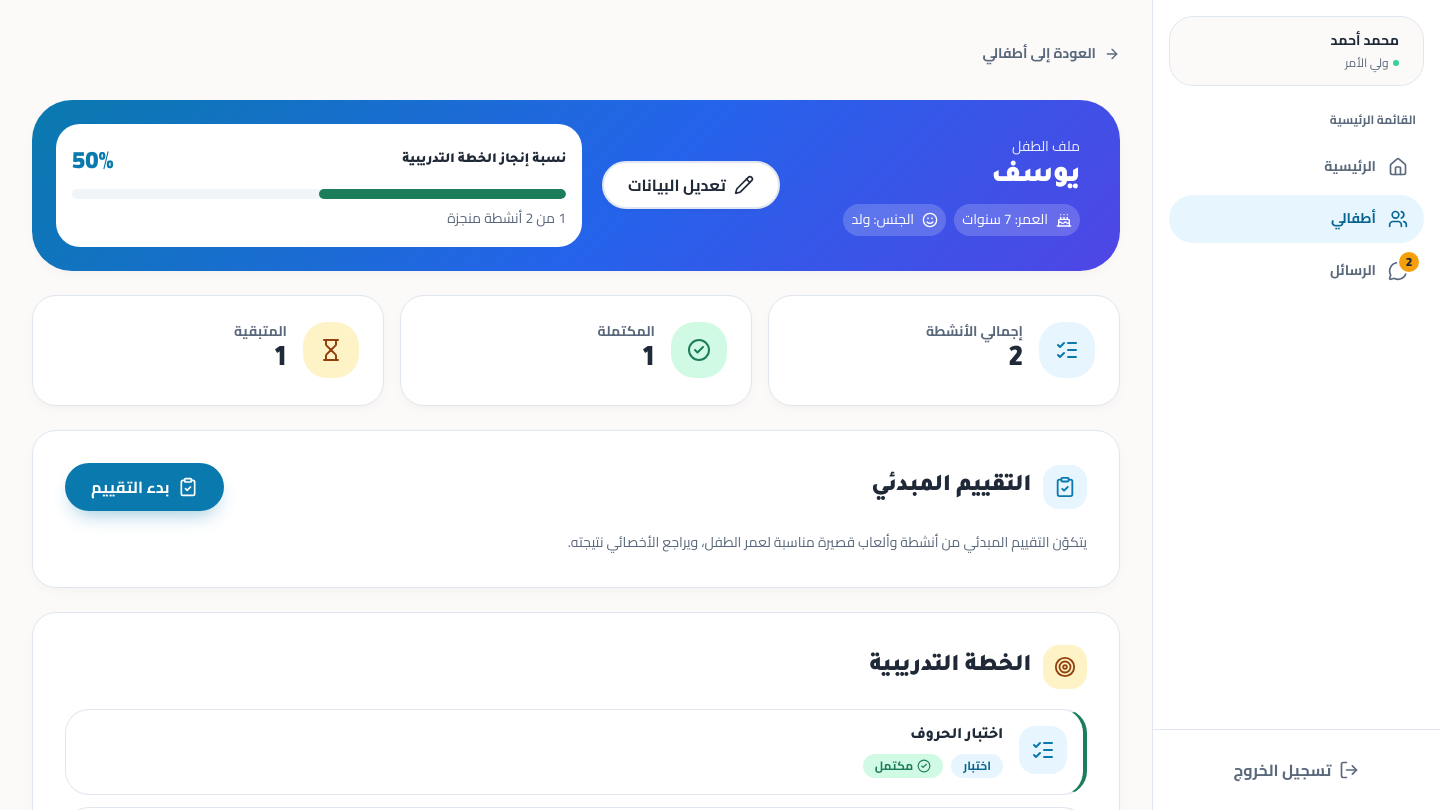
Scenario: ChildProfilePage — parent dashboard (client revision 2026-10) › edits the child through PATCH and shows the new data
Click the button "تعديل البيانات".
click(691, 185)  # box [602, 161, 780, 209]
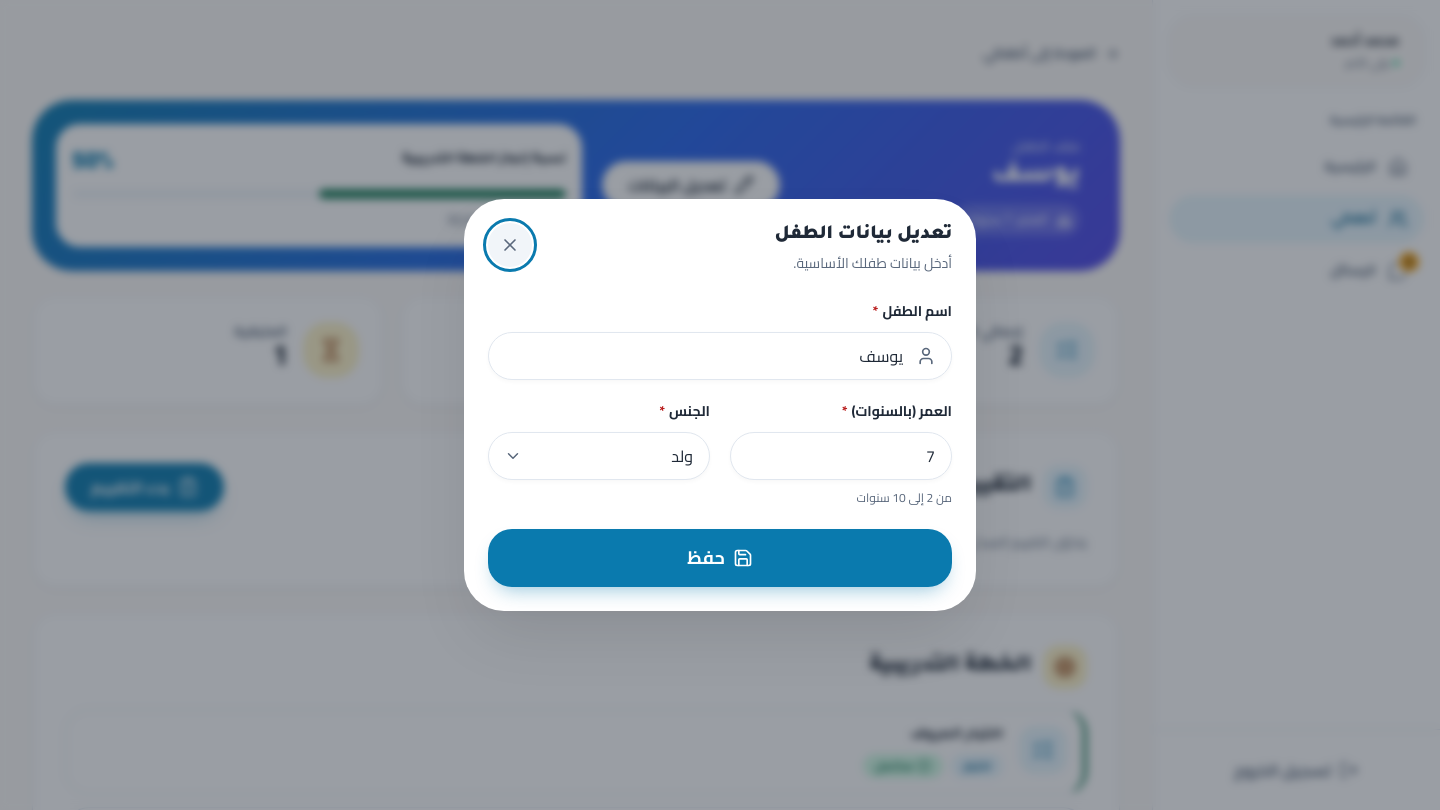
Now the number field labelled "العمر (بالسنوات)*" holds "7"
Replace the text in the number field labelled "العمر (بالسنوات)*" with "8" at (841, 456), box [730, 432, 952, 480]
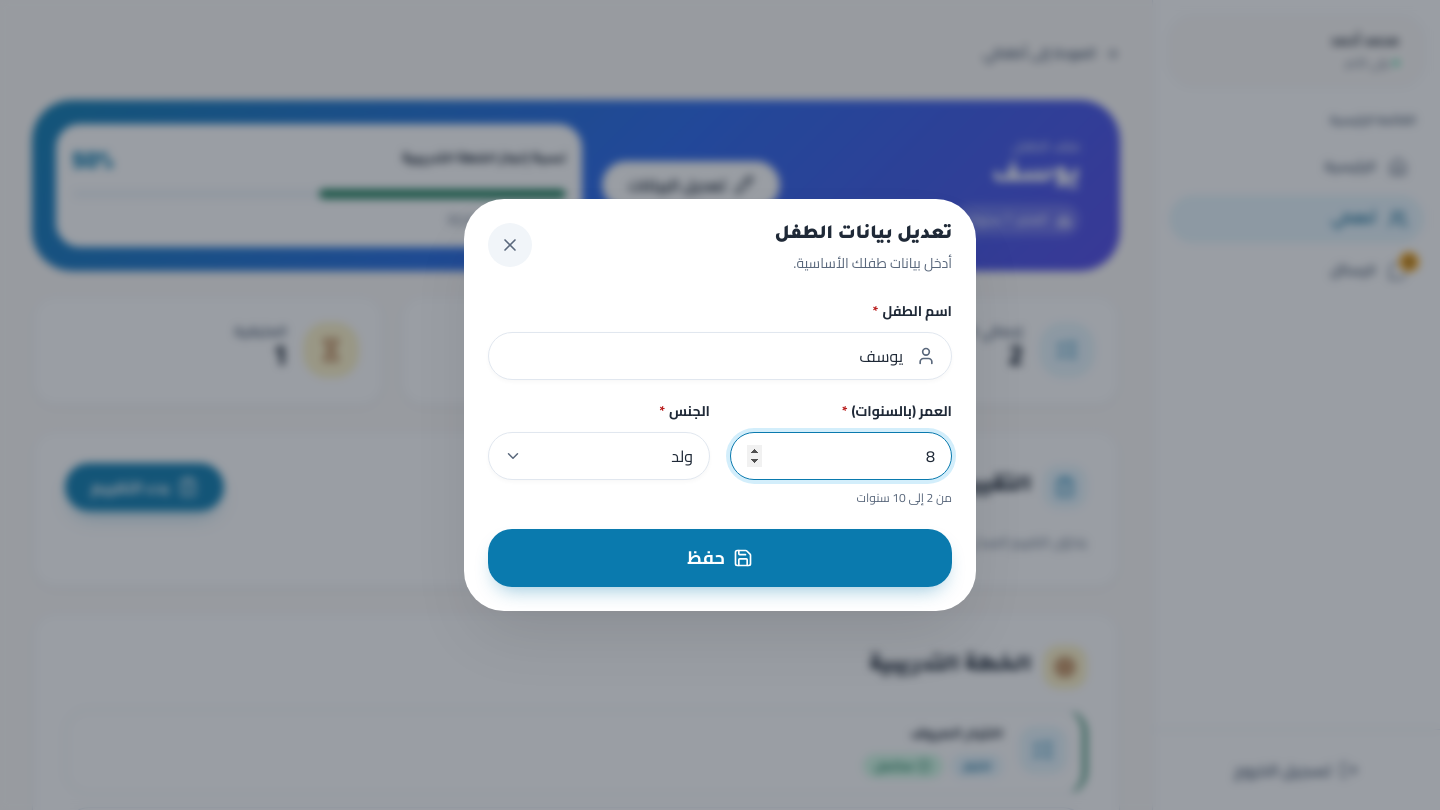
Click the button "حفظ".
click(720, 558)  # box [488, 528, 952, 587]
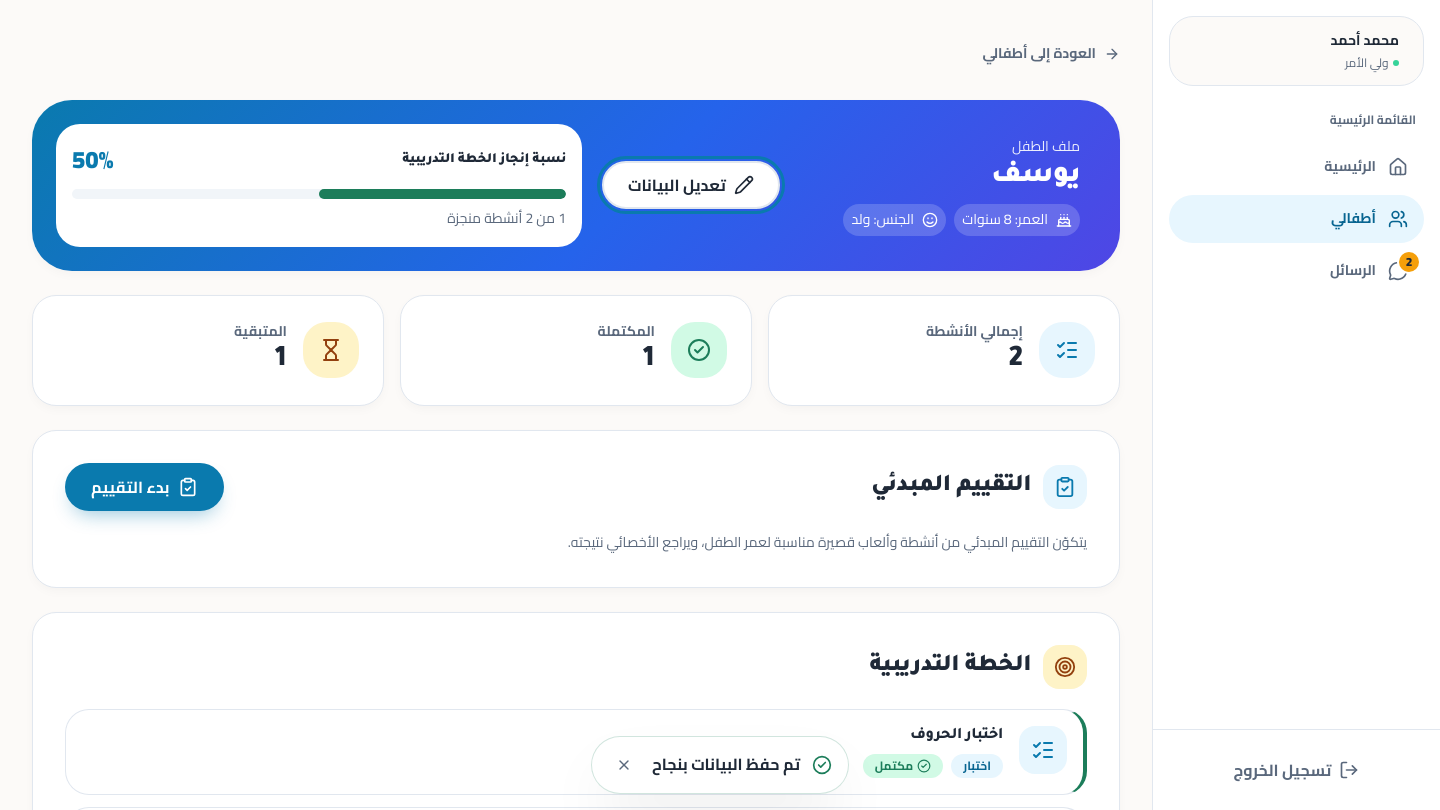
Now the text "تم حفظ البيانات بنجاح" is shown, box [652, 751, 800, 779]
Now the list item "العمر: 8 سنوات" is shown, box [954, 204, 1080, 236]
